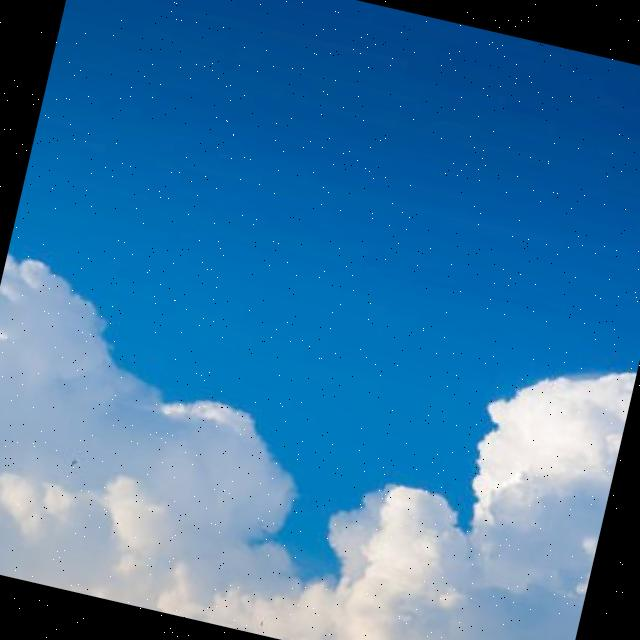Cu: (1, 230, 637, 640)
